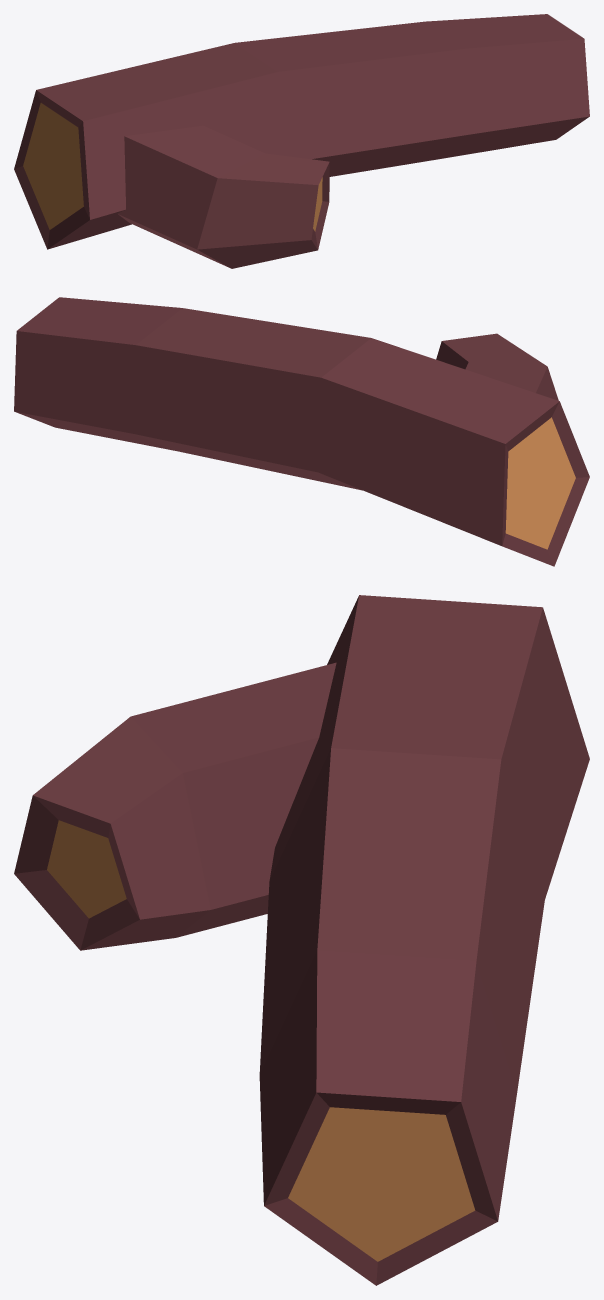
The model's file is log_2.fbx.
3 views of the same model, one above another, from view 1: azimuth 30°, elevation 25°; view 2: azimuth 150°, elevation 25°; view 3: azimuth 270°, elevation 25° (orthographic). The views are drawn at different scales.
Visible parts, largest first — view 1: Cylinder, Cylinder.001; view 2: Cylinder, Cylinder.001; view 3: Cylinder, Cylinder.001.
Part boxes in pixels (bbox=[...]): Cylinder: bbox=[14, 14, 589, 249]; Cylinder.001: bbox=[117, 125, 329, 268]; Cylinder: bbox=[14, 297, 589, 566]; Cylinder.001: bbox=[436, 333, 558, 400]; Cylinder: bbox=[259, 595, 589, 1285]; Cylinder.001: bbox=[14, 662, 336, 950].
Bounding box in the file's own units: 212 × 59.3 × 112.
